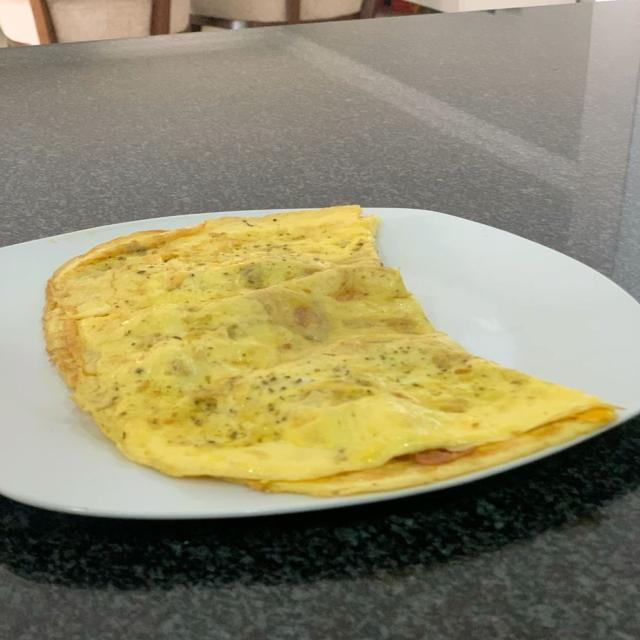omelette: (44, 207, 613, 495)
